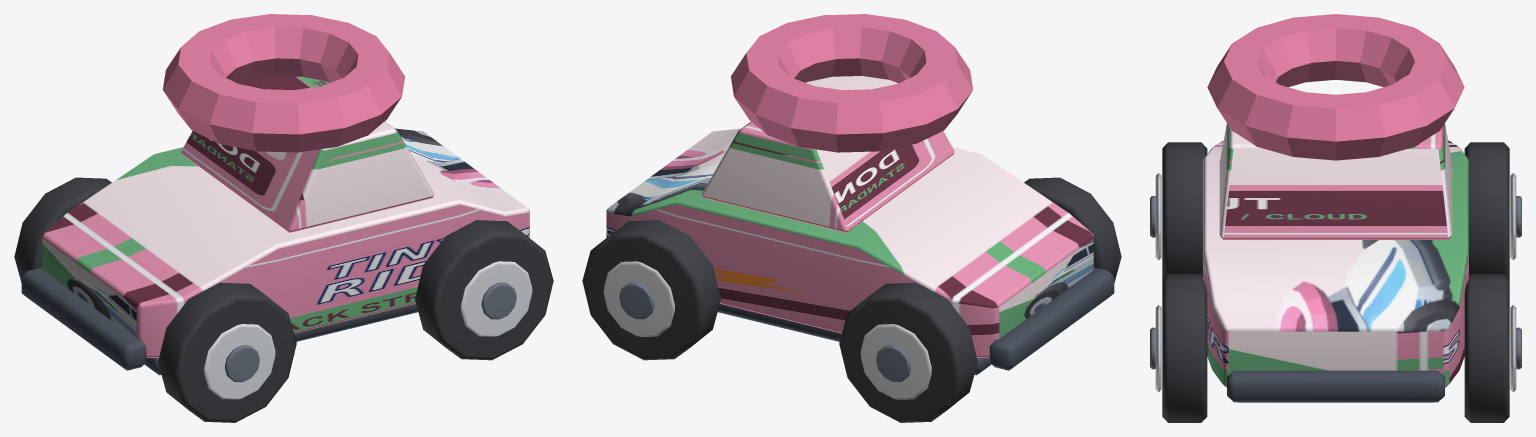
3 views of the same model, side by side, from view 1: azimuth 30°, elevation 25°; view 2: azimuth 150°, elevation 25°; view 3: azimuth 270°, elevation 25° (orthographic). The views are drawn at different scales.
Visible parts, largest first — view 1: SS-05_connected_shell, real donut ring, SS-05_cabin, Tire, Tire.002, front bumper, Tire.001, Rim, Rim.002, underbody, Hub.002, Hub; view 2: SS-05_connected_shell, real donut ring, SS-05_cabin, Tire.001, Tire.003, front bumper, Tire, Rim.001, Rim.003, underbody, Hub.003, Hub.001; view 3: SS-05_connected_shell, real donut ring, SS-05_cabin, rear bumper, Tire.002, Tire.003, Tire, Tire.001, Rim, Rim.001, Rim.002, Rim.003.
Part boxes in pixels (box(x1,y1,x2,y2)): SS-05_connected_shell: box(42, 128, 529, 358); real donut ring: box(163, 14, 404, 152); SS-05_cabin: box(181, 76, 434, 232); Tire: box(158, 282, 296, 422); Tire.002: box(415, 220, 553, 360); front bumper: box(21, 267, 146, 370); Tire.001: box(14, 177, 111, 282); Rim: box(204, 324, 275, 399); Rim.002: box(461, 261, 532, 336); underbody: box(144, 304, 418, 375); Hub.002: box(481, 282, 516, 319); Hub: box(225, 345, 259, 382); SS-05_connected_shell: box(606, 128, 1093, 358); real donut ring: box(731, 14, 972, 152); SS-05_cabin: box(701, 76, 954, 232); Tire.001: box(839, 282, 977, 422); Tire.003: box(582, 220, 720, 360); front bumper: box(989, 267, 1114, 370); Tire: box(1024, 177, 1121, 282); Rim.001: box(860, 324, 931, 399); Rim.003: box(603, 261, 674, 336); underbody: box(717, 304, 991, 375); Hub.003: box(619, 282, 654, 319); Hub.001: box(876, 345, 910, 382); SS-05_connected_shell: box(1203, 140, 1468, 387); real donut ring: box(1207, 14, 1464, 160); SS-05_cabin: box(1219, 123, 1452, 239); rear bumper: box(1227, 370, 1444, 402); Tire.002: box(1162, 274, 1207, 422); Tire.003: box(1464, 274, 1509, 422); Tire: box(1162, 142, 1207, 279); Tire.001: box(1464, 142, 1509, 279); Rim: box(1155, 173, 1161, 260); Rim.001: box(1510, 173, 1516, 260); Rim.002: box(1155, 305, 1161, 392); Rim.003: box(1510, 305, 1516, 392).
Size of the model in its own units: 295 by 183 by 214.
